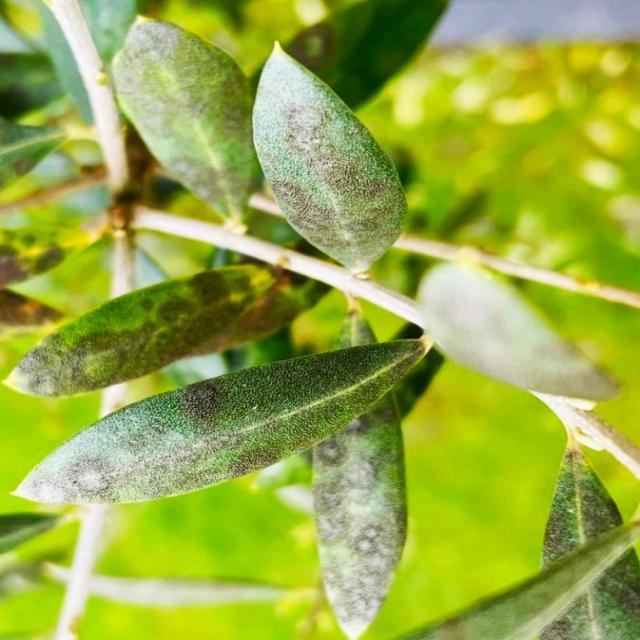Peacock Eye: (13, 339, 429, 504), (5, 261, 299, 396), (253, 42, 406, 272), (110, 17, 261, 231), (312, 393, 406, 639)
